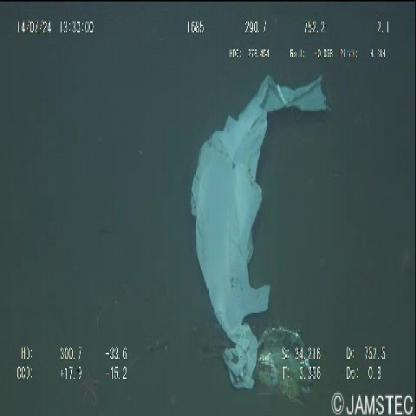Rác: (190, 74, 330, 390)
